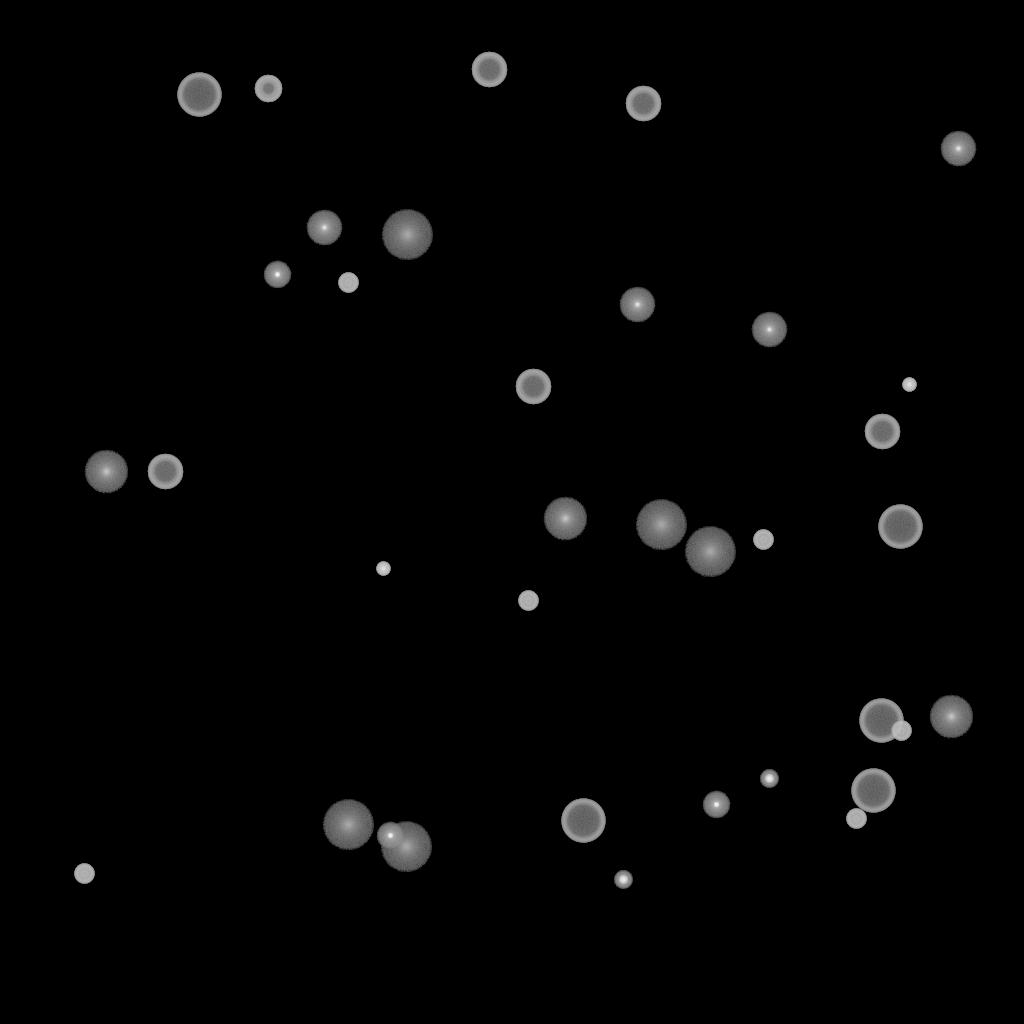depth:-10: (702, 791, 730, 819), (263, 261, 291, 289), (376, 822, 404, 850)
depth:-20: (760, 770, 778, 788), (614, 871, 632, 889)
depth:-30: (376, 562, 390, 576), (902, 378, 916, 392)
depth:-40: (846, 809, 866, 829), (753, 530, 773, 550), (338, 273, 358, 293), (891, 721, 911, 741), (74, 864, 94, 884), (518, 591, 538, 611)
depth:-50: (254, 75, 282, 103)
depth:-60: (471, 52, 507, 88), (147, 454, 183, 490), (515, 369, 551, 405), (625, 86, 661, 122), (864, 414, 900, 450)
depth:-70: (859, 699, 903, 743), (878, 505, 922, 549), (561, 799, 605, 843), (851, 769, 895, 813), (177, 73, 221, 117)
depth:0: (751, 312, 787, 348), (940, 131, 976, 167), (306, 210, 342, 246), (619, 287, 655, 323)
depth:10: (929, 695, 973, 739), (543, 497, 587, 541), (84, 450, 128, 494)
depth:20: (635, 500, 687, 550), (684, 527, 736, 577), (322, 800, 374, 850), (380, 822, 432, 872), (381, 210, 433, 260)
